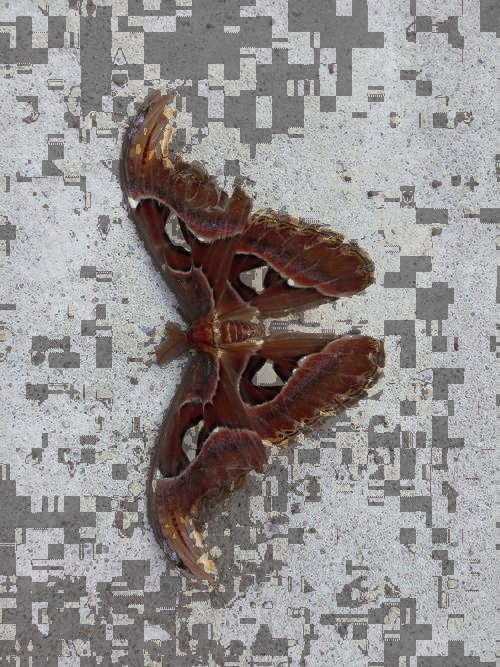Stink_Bug: (146, 156, 376, 483)
